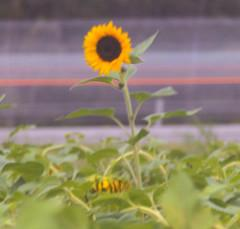sunflower: (85, 23, 130, 73)
